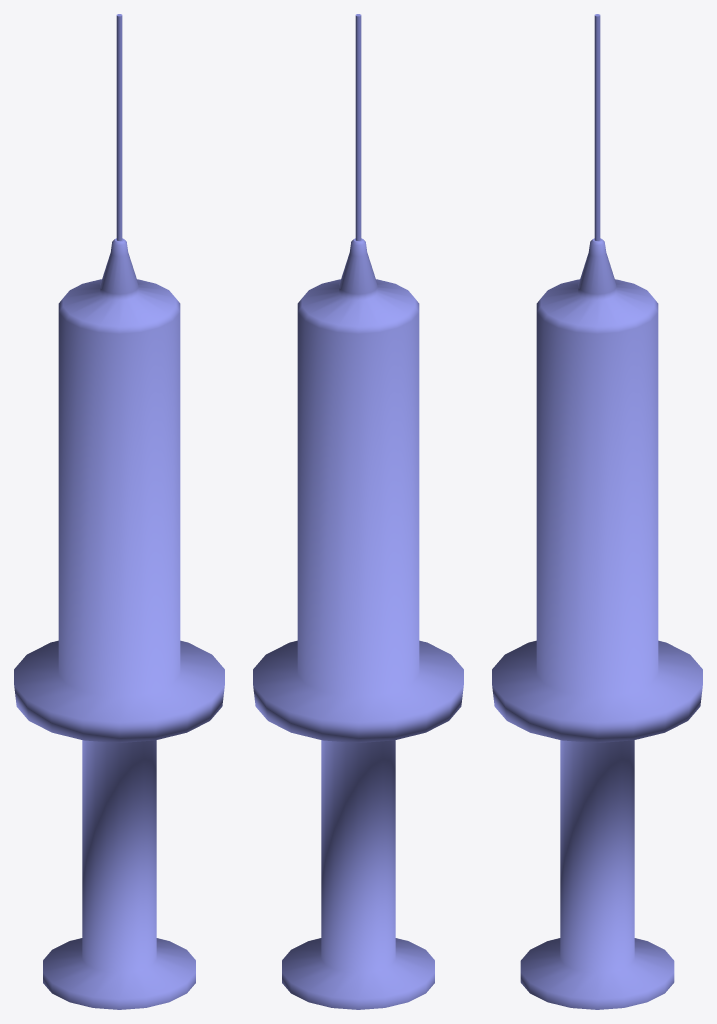
Rendered from shpriz.obj.
The picture shows the model from 3 angles, left to right: view 1: azimuth 30°, elevation 25°; view 2: azimuth 150°, elevation 25°; view 3: azimuth 270°, elevation 25°; orthographic projection.
Visible parts, largest first — view 1: Cylinder001; view 2: Cylinder001; view 3: Cylinder001.
Boxes of the visible parts, left/top/right/bottom form: Cylinder001: left=14, top=14, right=224, bottom=1009; Cylinder001: left=253, top=14, right=463, bottom=1009; Cylinder001: left=492, top=14, right=702, bottom=1009.
Size of the model in its own units: 0.2226 by 1.1 by 0.2193.
